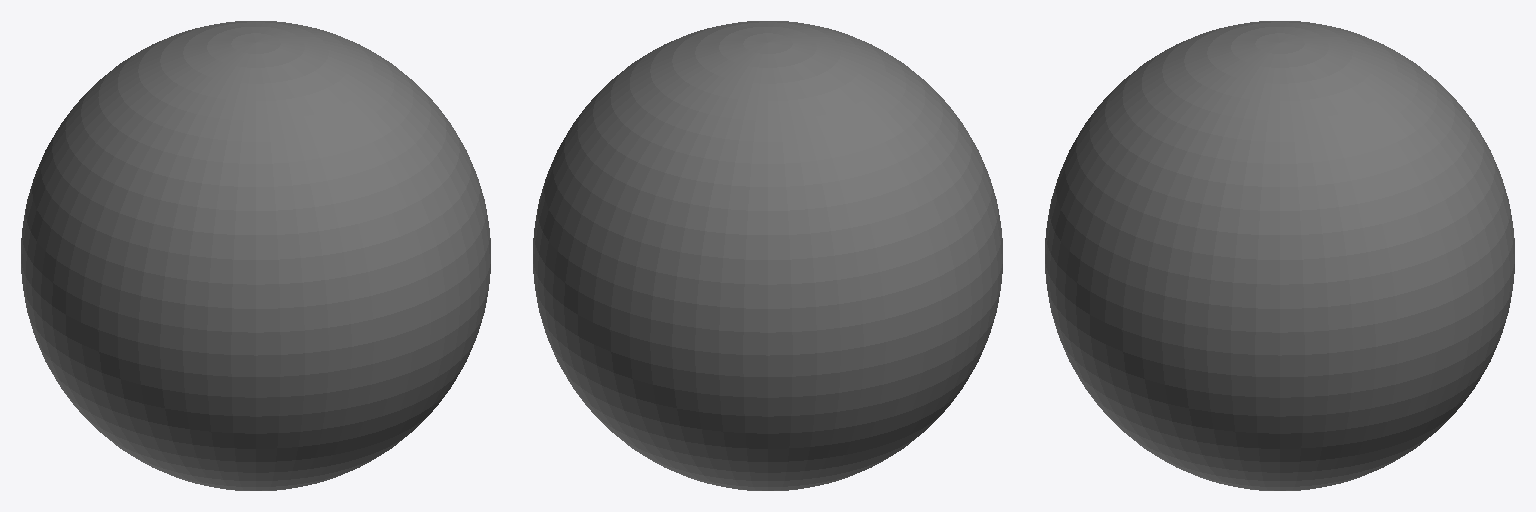
Rendered from sphereNoMaps.obj.
3 views of the same model, side by side, from view 1: azimuth 30°, elevation 25°; view 2: azimuth 150°, elevation 25°; view 3: azimuth 270°, elevation 25° (orthographic).
Parts seen in each view (by area): view 1: Sphere002; view 2: Sphere002; view 3: Sphere002.
Boxes of the visible parts, box(x1,y1,x2,y2) form: Sphere002: box(21, 21, 490, 490); Sphere002: box(533, 21, 1002, 490); Sphere002: box(1045, 21, 1514, 490).
Size of the model in its own units: 220 by 220 by 220.